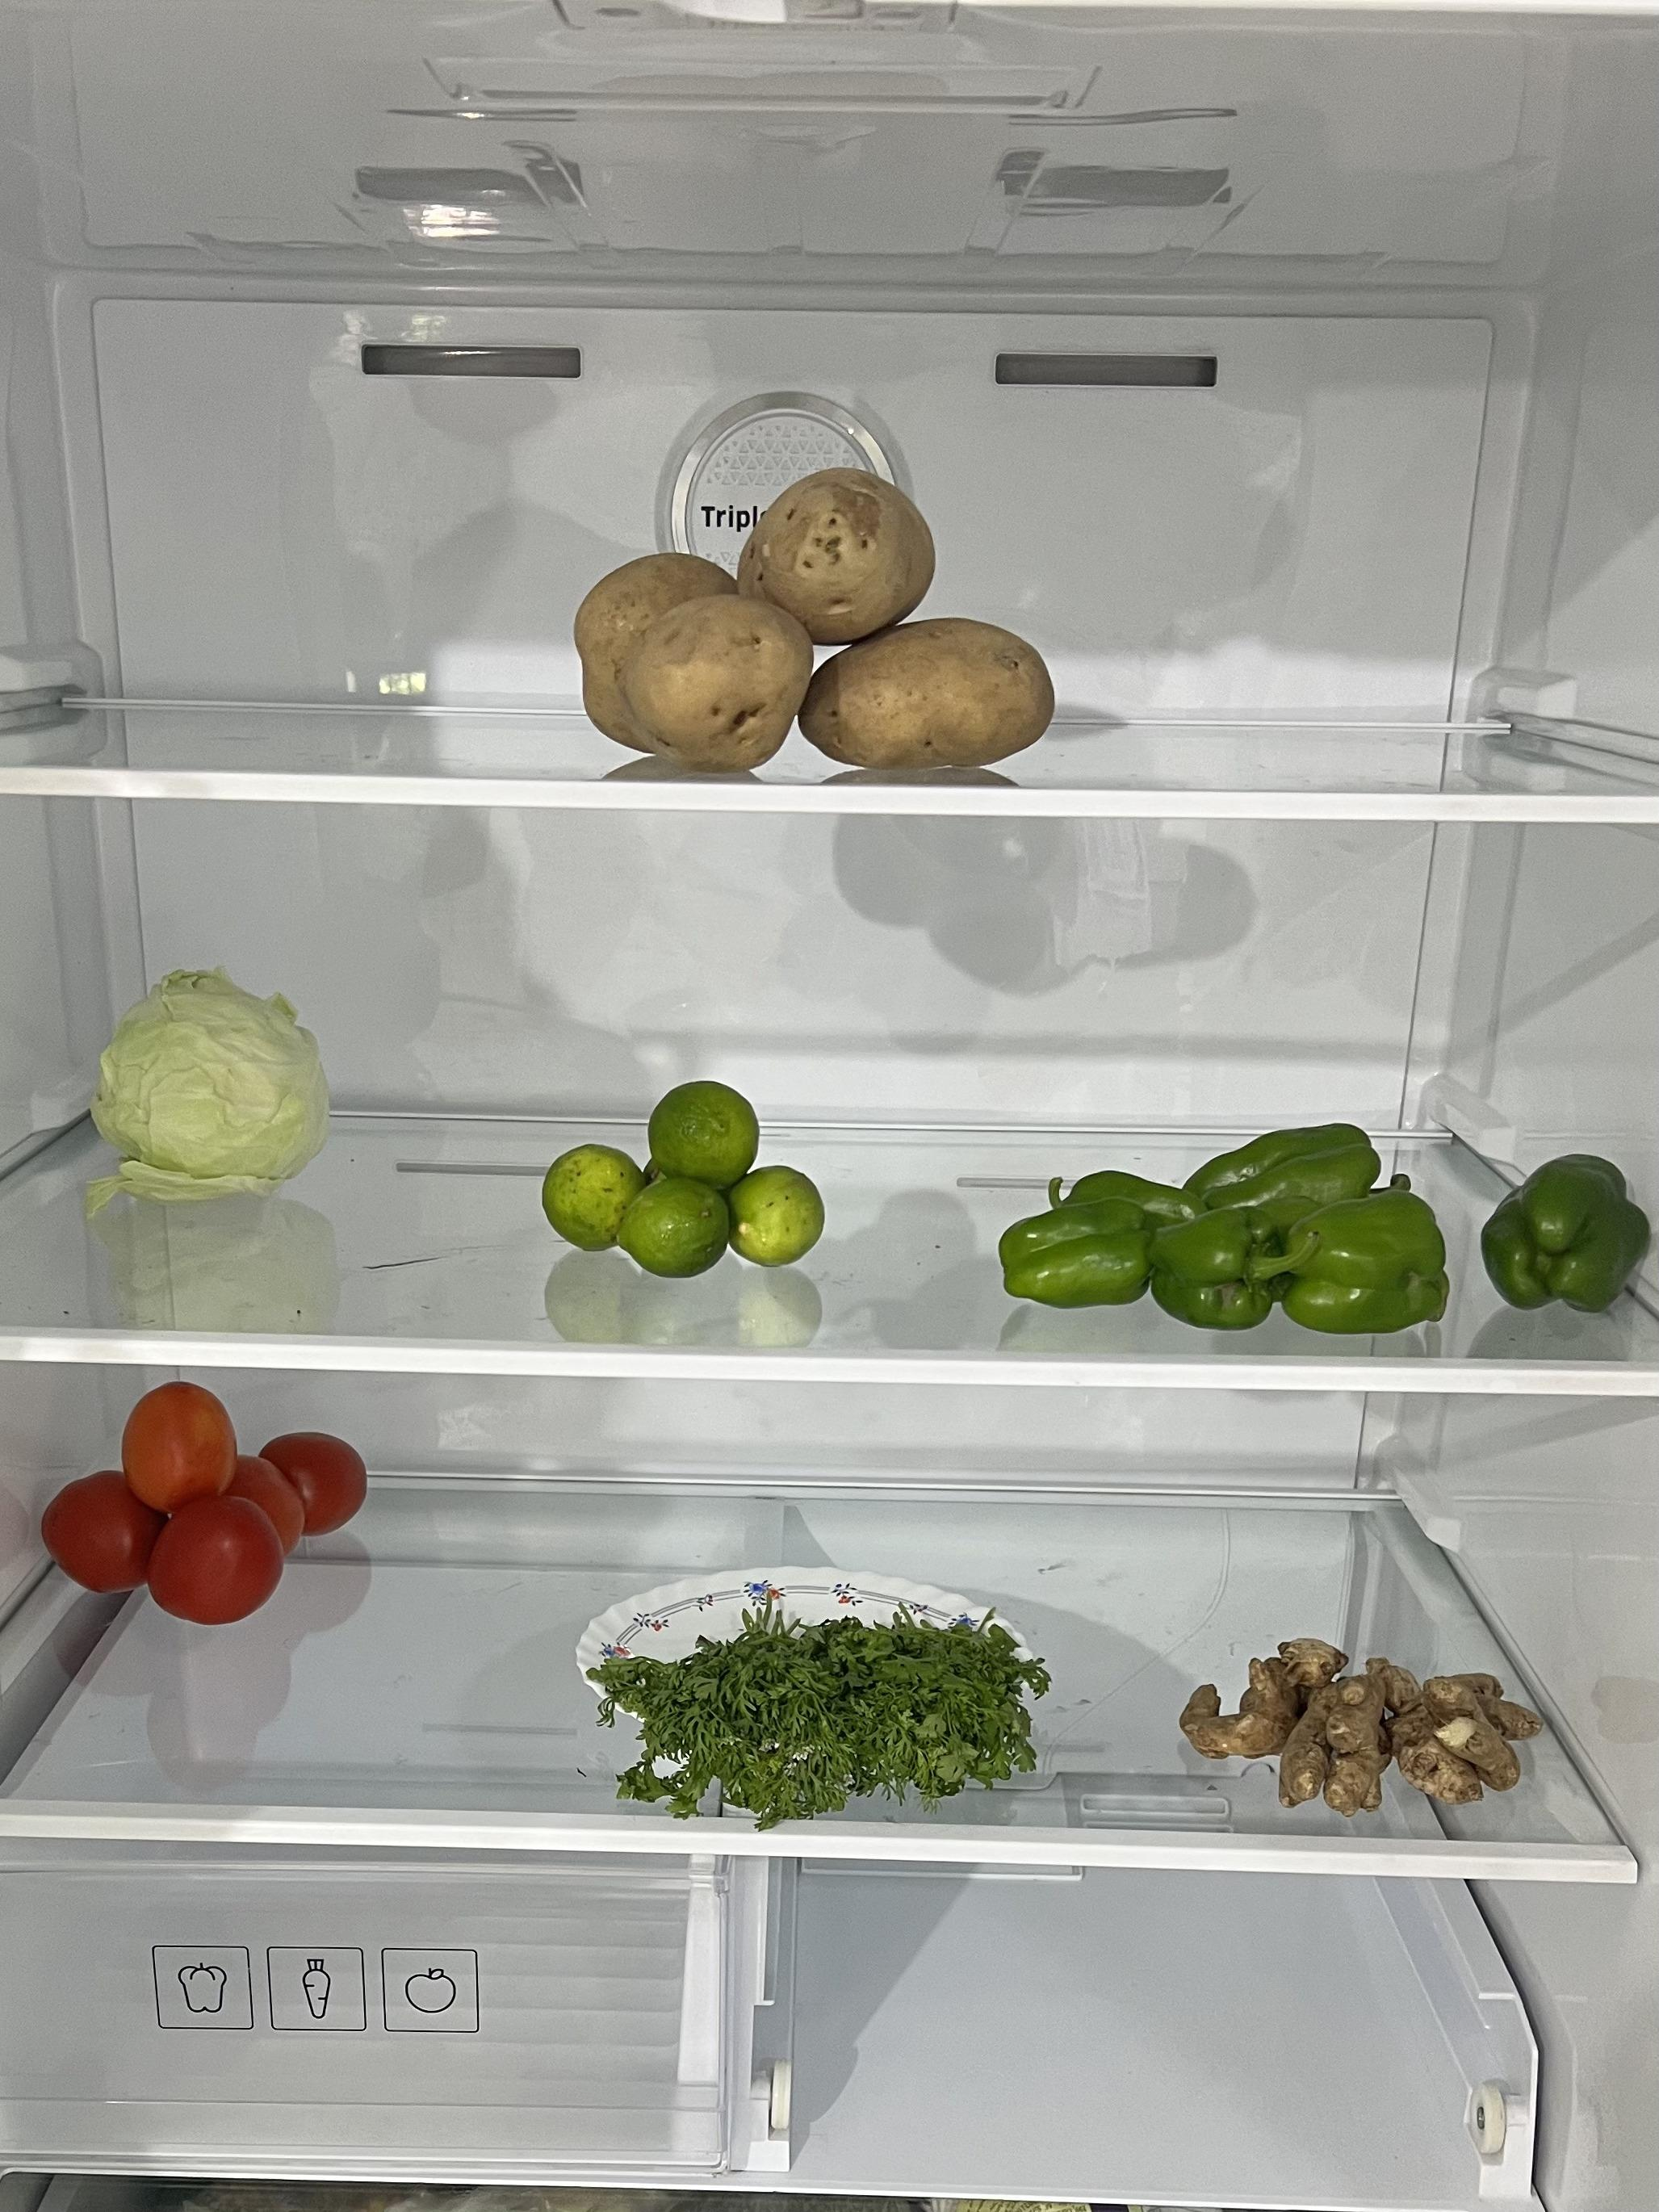cabbage: (94, 958, 322, 1197)
capsicum: (997, 1122, 1645, 1336)
coriander: (568, 1599, 1054, 1803)
ginger: (1183, 1629, 1539, 1813)
lemon: (542, 1080, 826, 1275)
potato: (565, 458, 1056, 775)
tomato: (44, 1378, 366, 1613)
